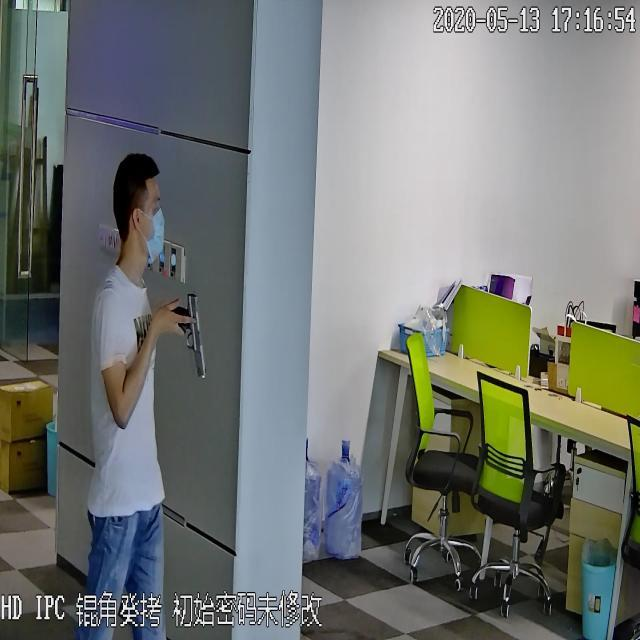gun: (169, 286, 205, 376)
